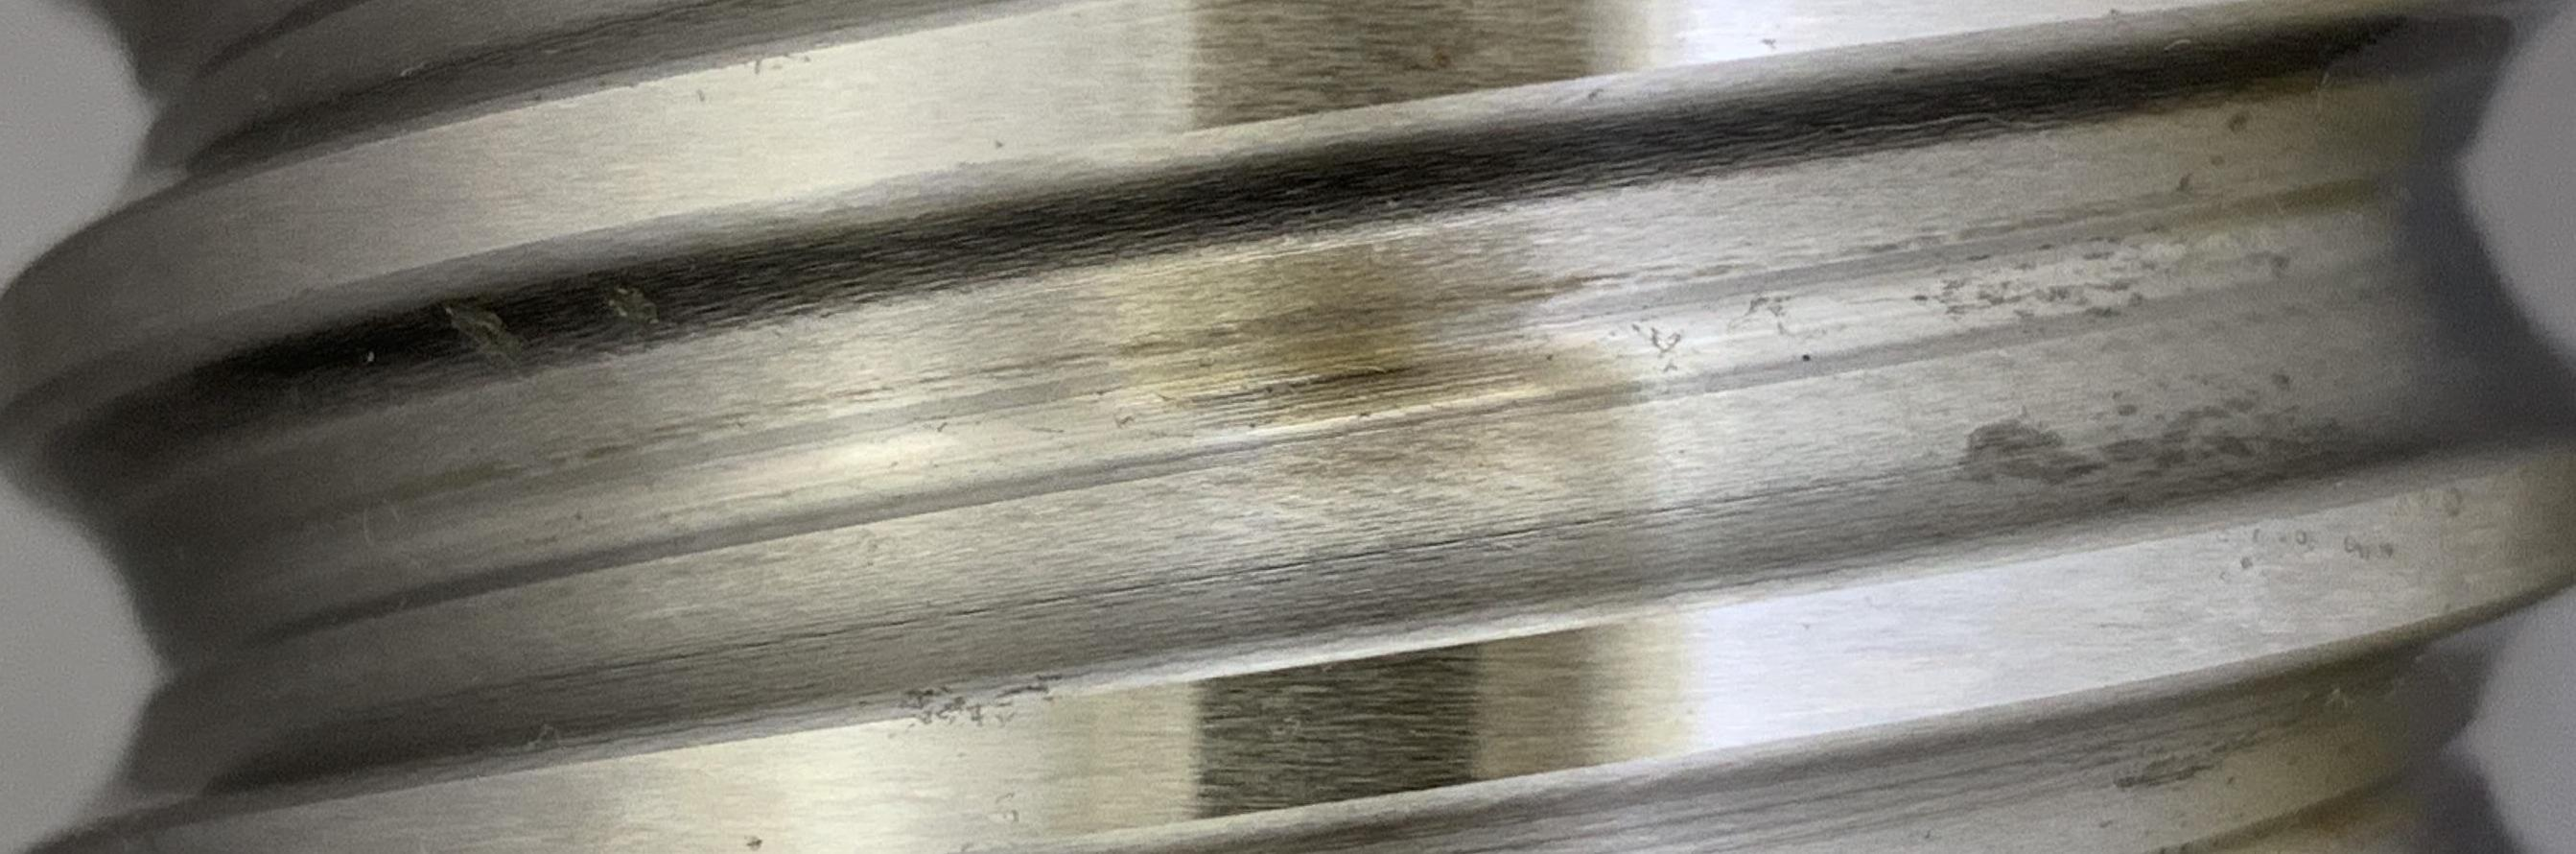pitting: (442, 299, 526, 368), (606, 282, 660, 328)
